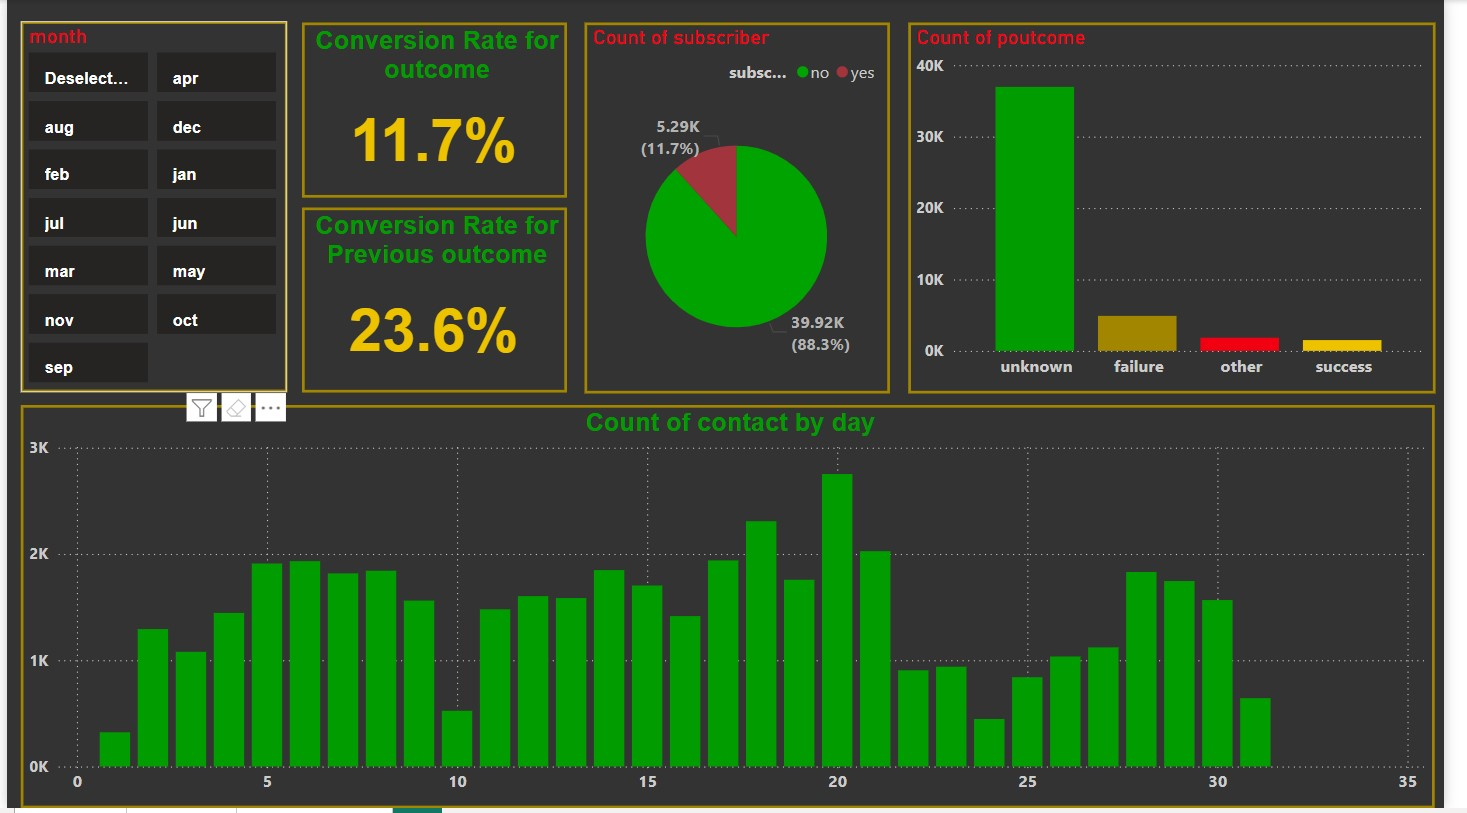

The page's visual inventory and layout, read from the dashboard file:
{"tool":"powerbi","page":{"name":"Cutomer","canvas":[1280,720],"ordinal":1},"visuals":[{"type":"clusteredColumnChart","fields":{"Category":["Banking data.day"],"Y":["CountNonNull(Banking data.contact)"]},"box":[12.1,360.7,1259.5,359.5],"z":0},{"type":"advancedSlicerVisual","fields":{"Values":["Banking data.month"]},"box":[12.1,19.3,237.7,330.6],"z":1000},{"type":"clusteredColumnChart","title":"Count of poutcome","fields":{"Category":["Banking data.poutcome"],"Y":["CountNonNull(Banking data.poutcome)"]},"box":[802.3,19.8,469.8,330.2],"z":2000},{"type":"pieChart","title":"Count of subscriber","fields":{"Category":["Banking data.y"],"Y":["CountNonNull(Banking data.y)"]},"box":[514,19.8,272.1,330.2],"z":3000},{"type":"card","title":"Conversion Rate for outcome","fields":{"Values":["Banking data.conv Rate"]},"box":[262.8,19.8,236,155.8],"z":4000},{"type":"card","title":"Conversion Rate for Previous outcome","fields":{"Values":["Banking data.conv Rate previous comp"]},"box":[262.8,184.9,236,165.1],"z":5000}]}

Visuals, with their boxes in screenshot pixels (x1, y1, x2, y2), scaled from the page's 1280x720 canvas onto the 1467x813 screenshot:
clusteredColumnChart - Banking data.day x CountNonNull(Banking data.contact): box=[14, 407, 1457, 812]
advancedSlicerVisual - Banking data.month: box=[14, 22, 286, 395]
"Count of poutcome" clusteredColumnChart: box=[920, 22, 1458, 395]
"Count of subscriber" pieChart: box=[589, 22, 901, 395]
"Conversion Rate for outcome" card: box=[301, 22, 572, 198]
"Conversion Rate for Previous outcome" card: box=[301, 209, 572, 395]
